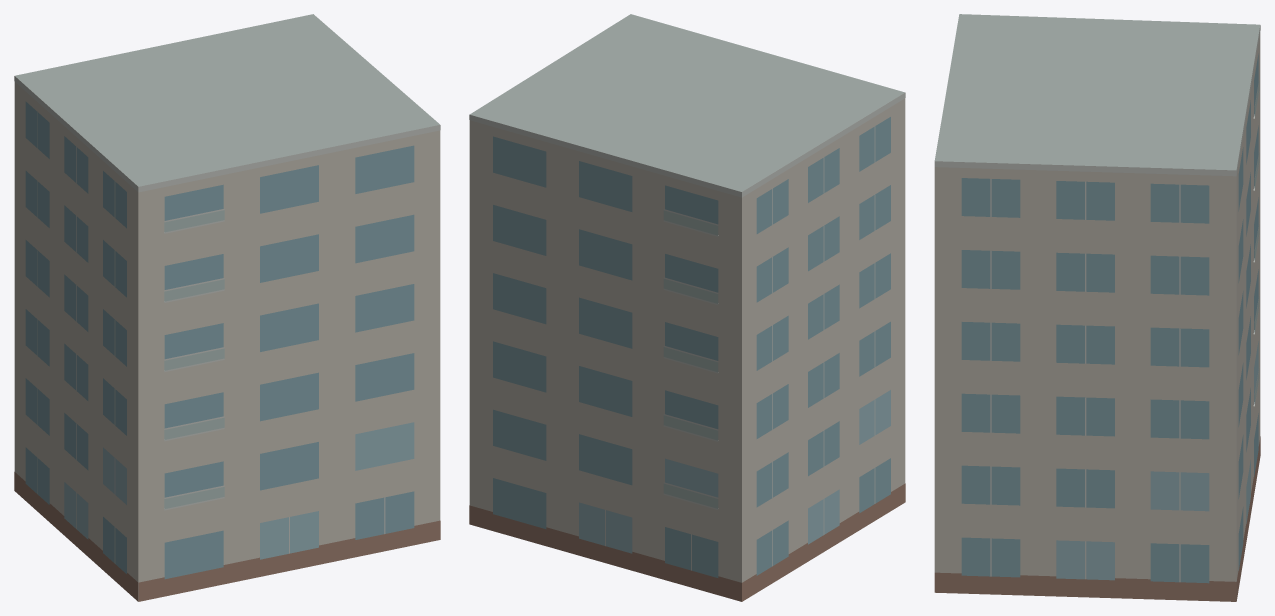
The model's file is survey-upis-32869568.glb.
3 views of the same model, side by side, from view 1: azimuth 30°, elevation 25°; view 2: azimuth 150°, elevation 25°; view 3: azimuth 270°, elevation 25° (orthographic). The views are drawn at different scales.
Parts seen in each view (by area): view 1: survey-upis-32869568.tmp; view 2: survey-upis-32869568.tmp; view 3: survey-upis-32869568.tmp.
Part boxes in pixels (x1,y1,x2,y2): survey-upis-32869568.tmp: (14, 14, 440, 601); survey-upis-32869568.tmp: (469, 14, 905, 601); survey-upis-32869568.tmp: (934, 14, 1260, 601).
Bounding box in the file's own units: 14 × 18 × 12.33.
